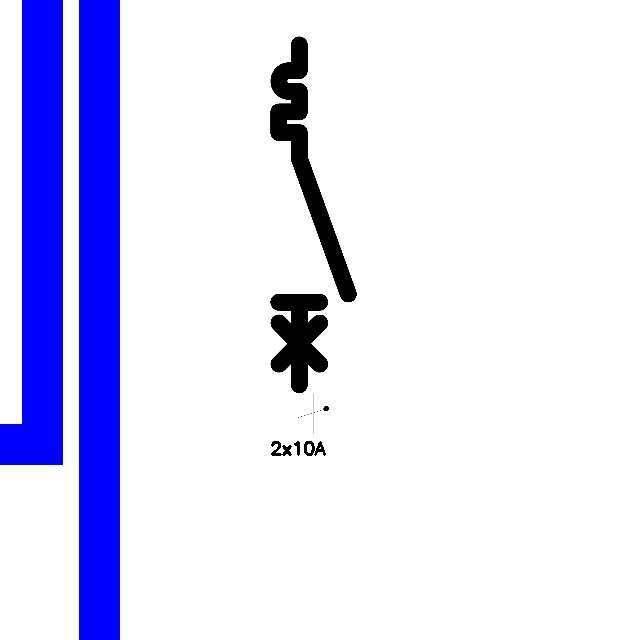interruptor_termomagnetico: (270, 36, 357, 393)
